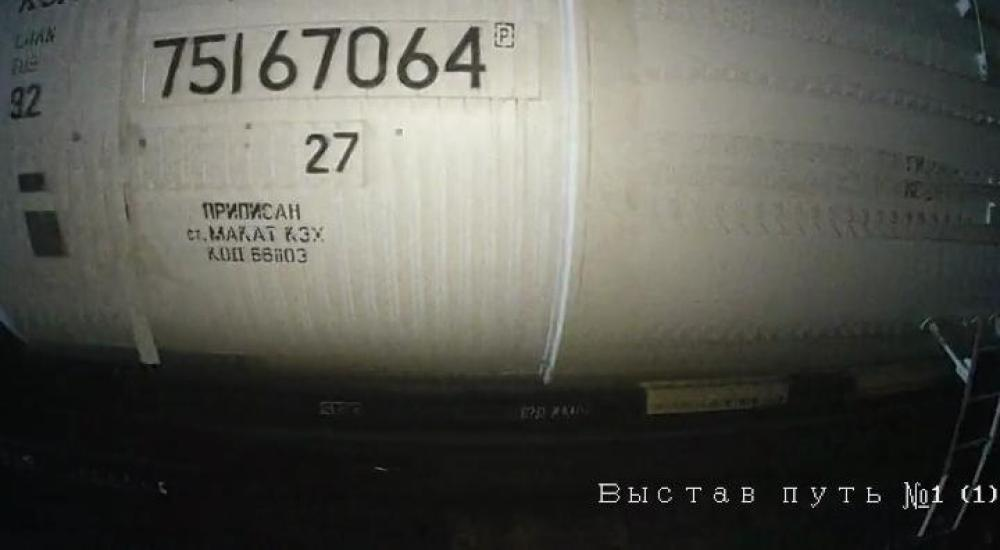Wagon-number: (147, 21, 494, 95)
